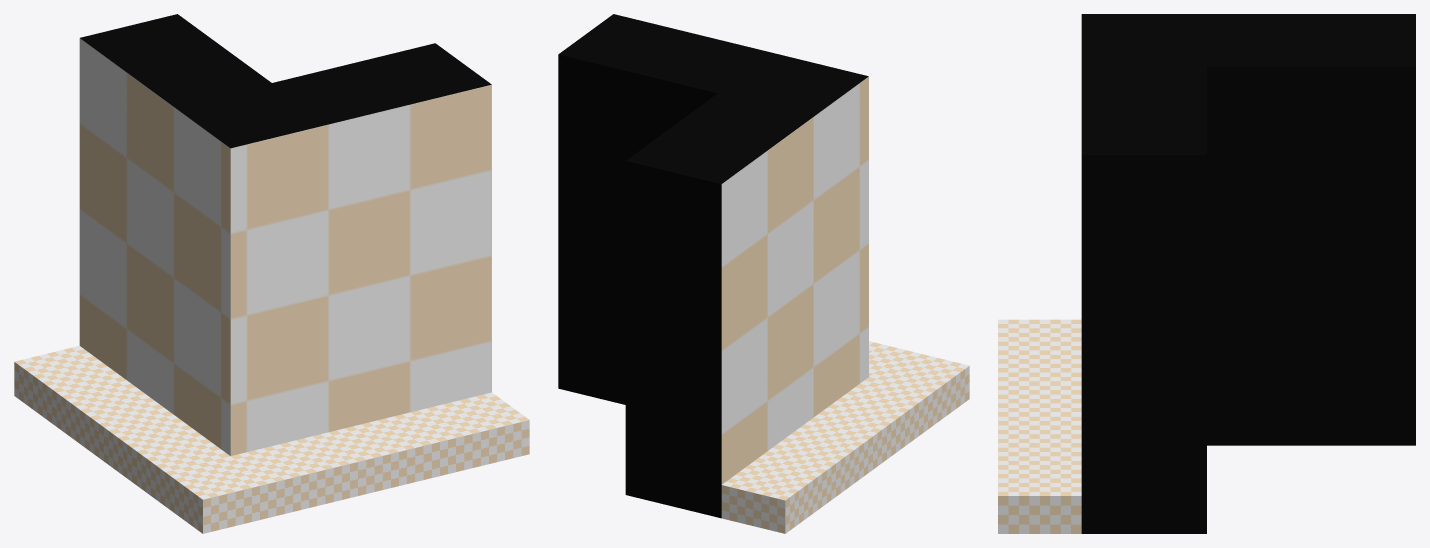
Rendered from Wall_Corner_2.FBX.
3 renders of one model, left to right at view 1: azimuth 30°, elevation 25°; view 2: azimuth 150°, elevation 25°; view 3: azimuth 270°, elevation 25°, orthographic. The views are drawn at different scales.
Parts seen in each view (by area): view 1: corner2_wall1, corner2_wall2, Box002, Box001; view 2: corner2_wall1, corner2_wall2, Box001, Box002; view 3: corner2_wall1, corner2_wall2, Box002.
Part boxes in pixels (left/top/right/bottom): corner2_wall1: left=79, top=14, right=328, bottom=455; corner2_wall2: left=272, top=43, right=491, bottom=431; Box002: left=165, top=392, right=529, bottom=533; Box001: left=14, top=346, right=229, bottom=505; corner2_wall1: left=625, top=53, right=868, bottom=518; corner2_wall2: left=558, top=14, right=772, bottom=404; Box001: left=721, top=377, right=932, bottom=533; Box002: left=869, top=341, right=969, bottom=425; corner2_wall1: left=1081, top=14, right=1415, bottom=445; corner2_wall2: left=1081, top=67, right=1206, bottom=533; Box002: left=998, top=319, right=1081, bottom=533.
Bounding box in the file's own units: 100 × 100 × 100.
2 materials, 2 textured.
